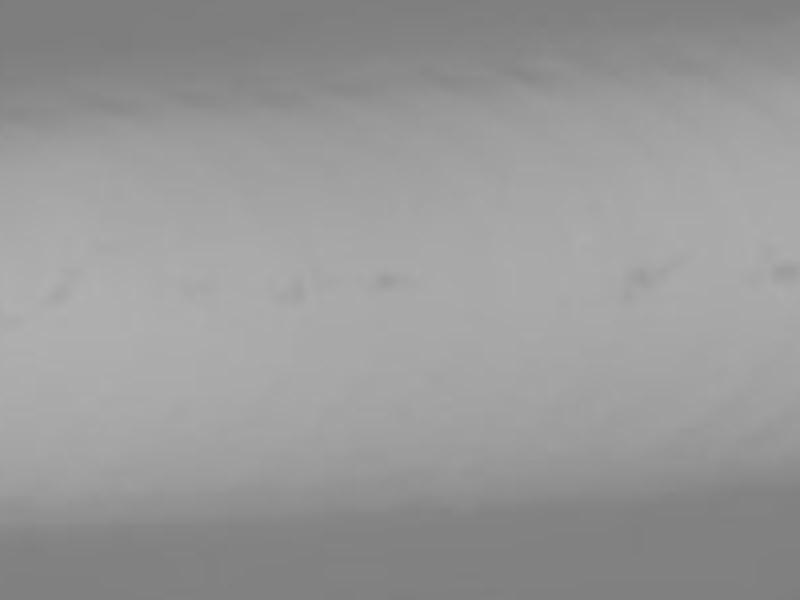defect: (622, 263, 674, 297), (268, 267, 313, 304), (42, 274, 74, 304), (368, 266, 404, 288), (771, 260, 799, 284)
